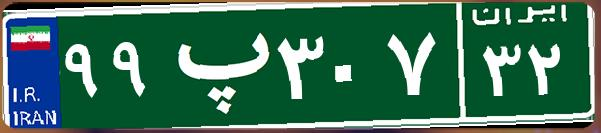0: (330, 28, 385, 110)
2: (525, 38, 570, 115)
3: (273, 28, 330, 110), (475, 38, 525, 113)
7: (385, 28, 445, 110)
9: (57, 26, 110, 107), (110, 28, 158, 105)
پ: (158, 15, 273, 115)
